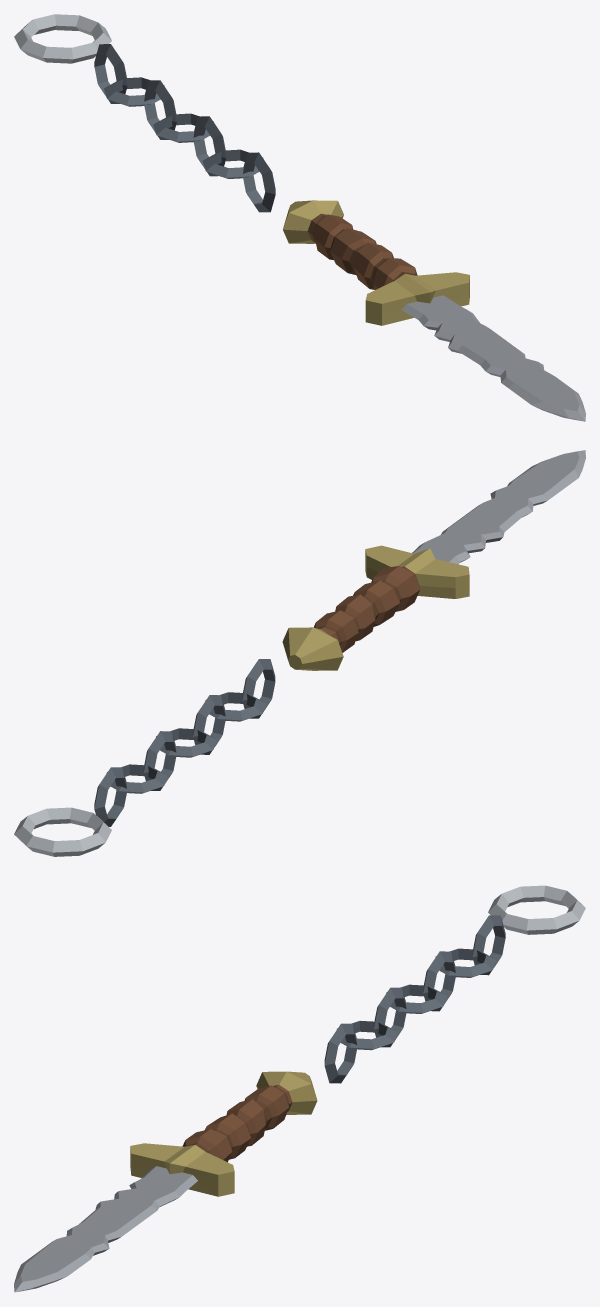
Rendered from chained-dagger.glb.
3 renders of one model, top to bottom at view 1: azimuth 30°, elevation 25°; view 2: azimuth 150°, elevation 25°; view 3: azimuth 330°, elevation 25°, orthographic.
Visible parts, largest first — view 1: m; view 2: m; view 3: m.
Boxes of the visible parts, left/top/right/bottom form: m: left=14, top=14, right=585, bottom=421; m: left=14, top=450, right=585, bottom=856; m: left=14, top=885, right=585, bottom=1292.
Size of the model in its own units: 0.0661 by 0.0363 by 0.6.
